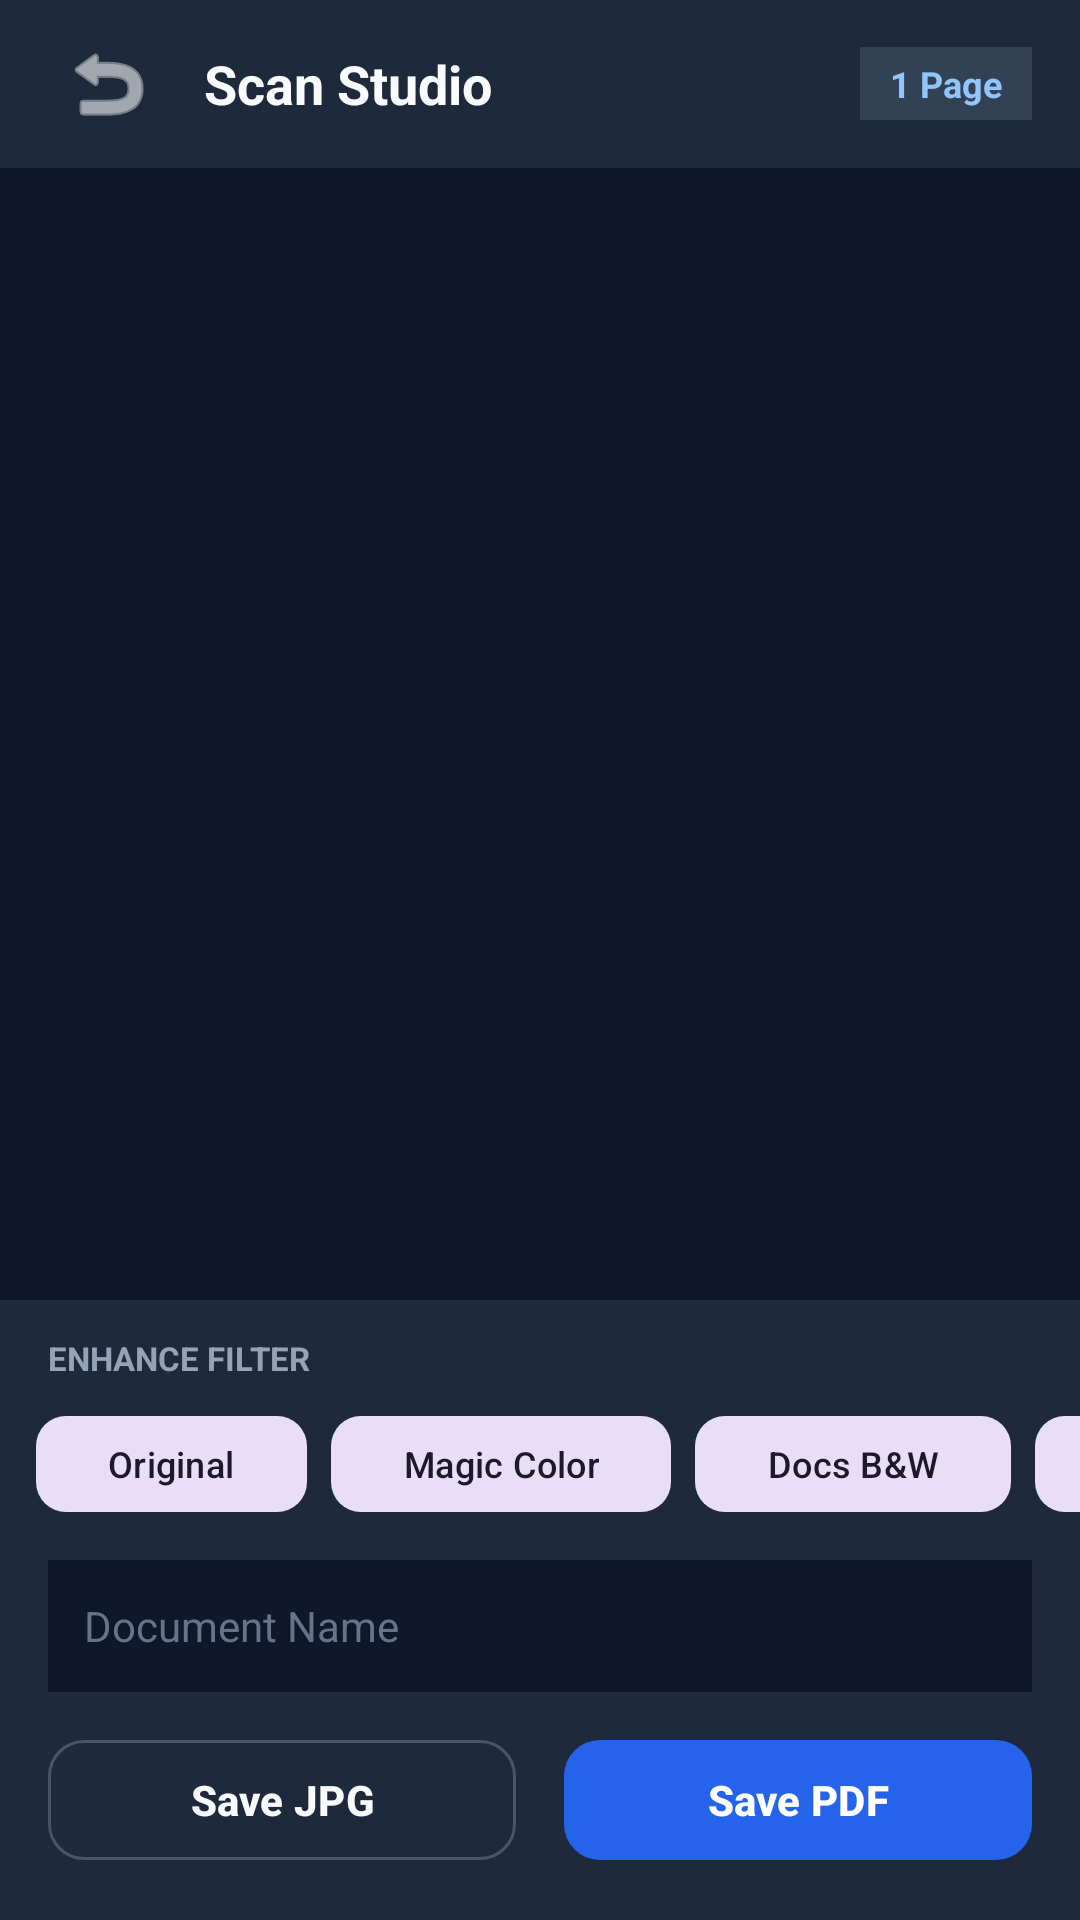

Icons on this 1080x1920 Android screen, each with the point to tap as (x,y):
revert: (109,84)
